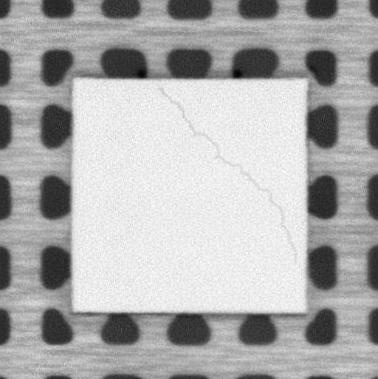DIE_CRACK: (159, 87, 295, 259)
